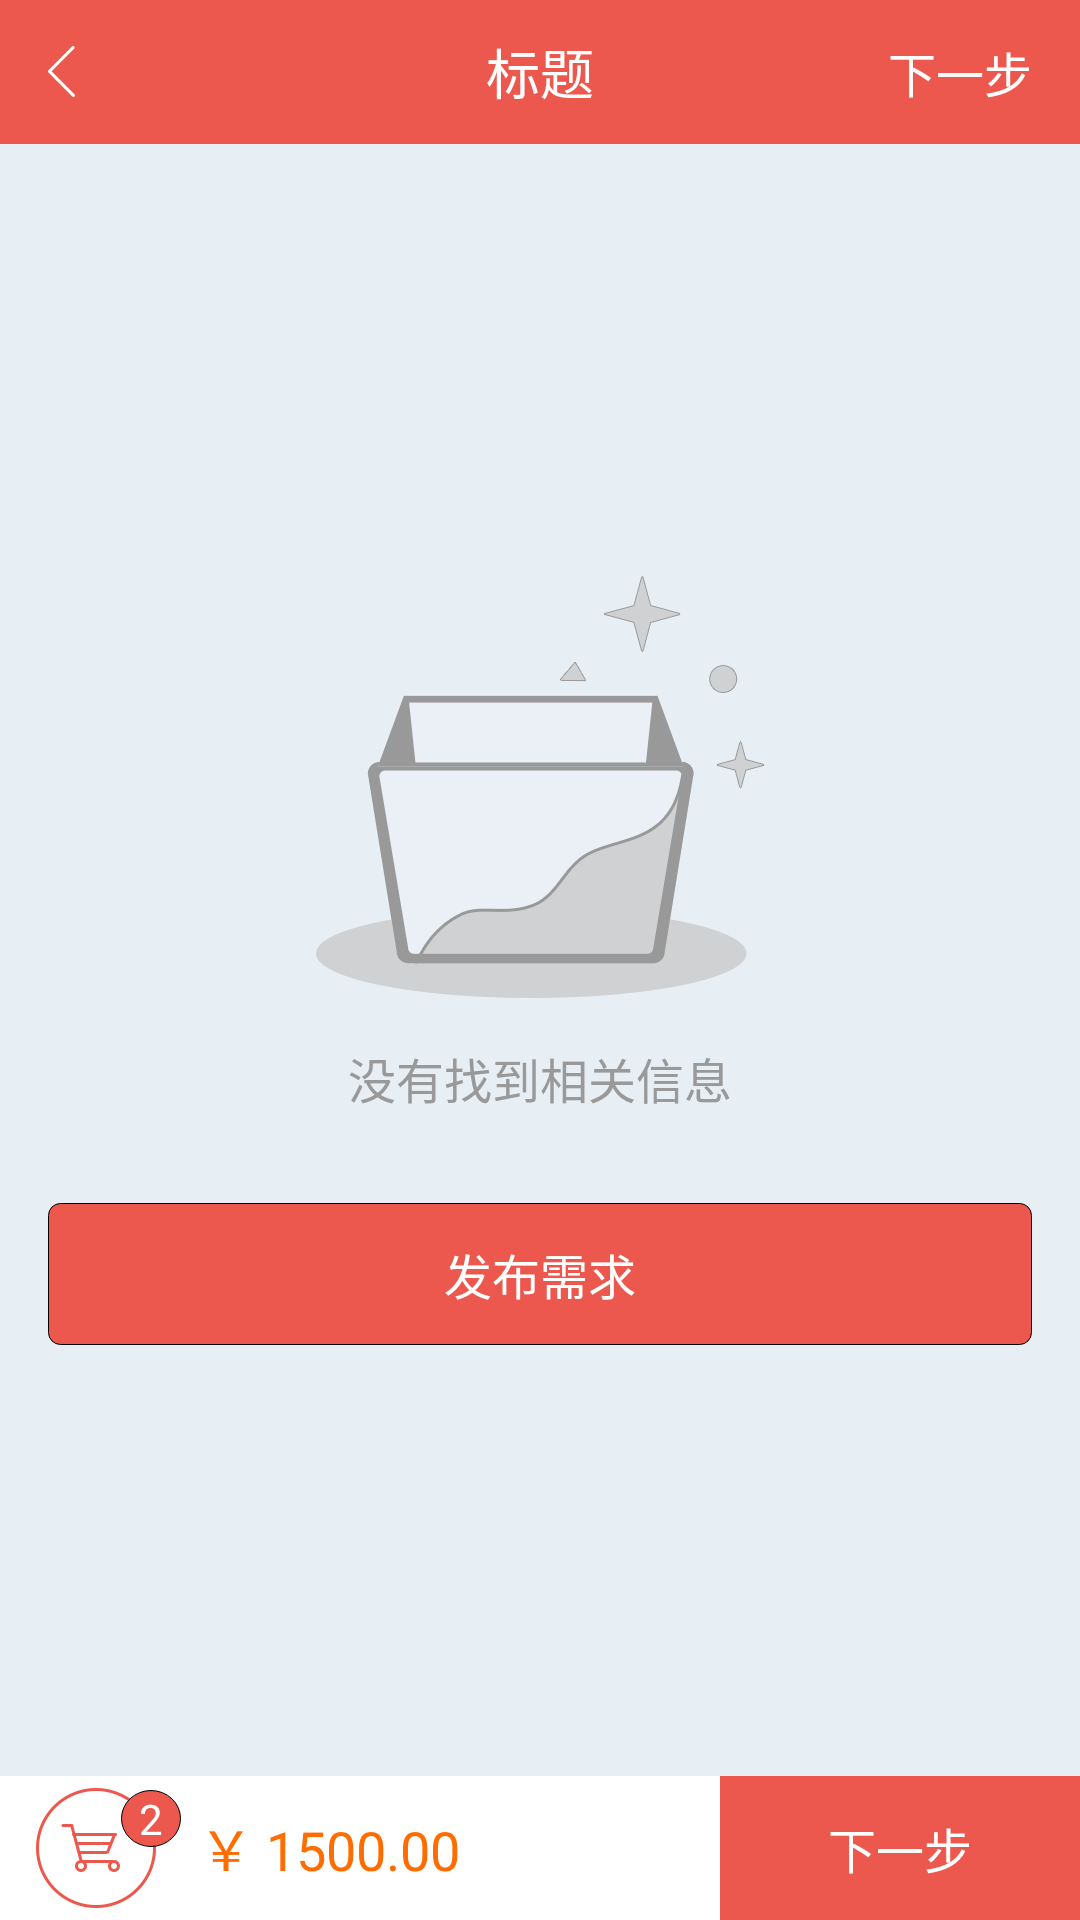

Icon bounding boxes for this 1080px x 1920px phone screenshot, format (x1, y1, x2, y2):
back: (48, 46, 75, 97)
cart: (36, 1788, 156, 1908)
